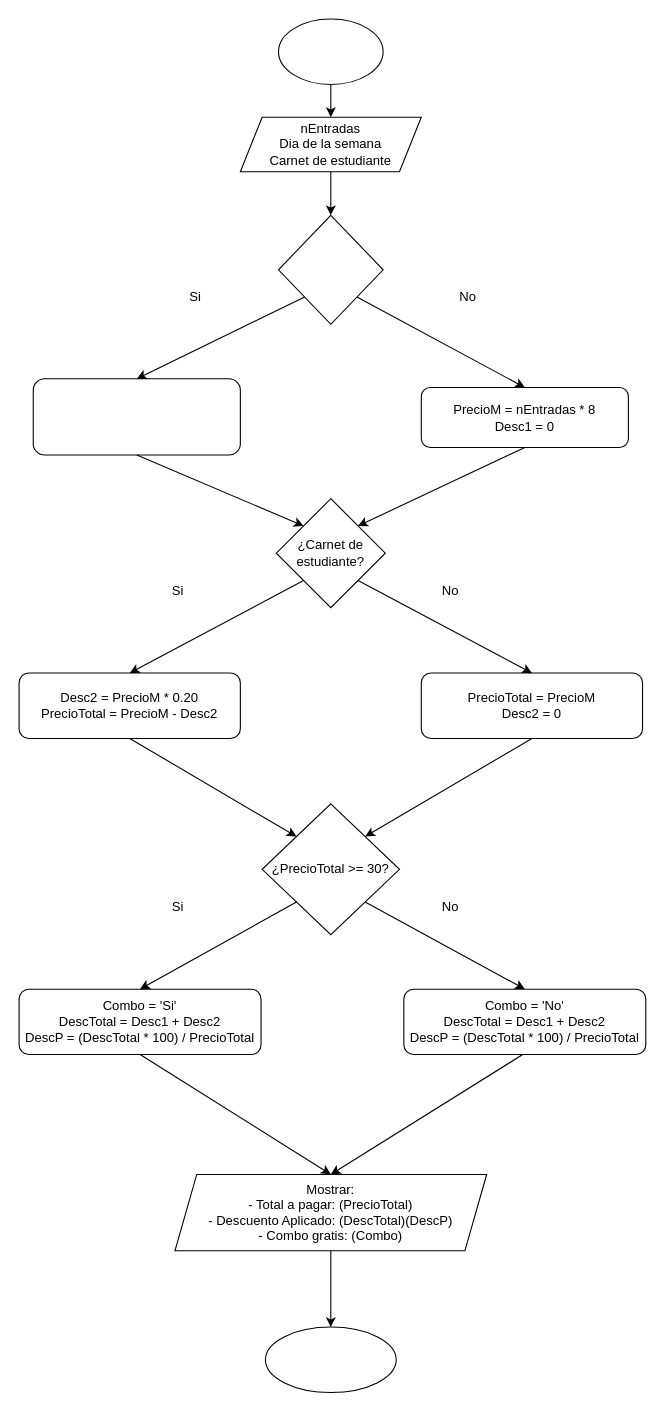
Some shapes in this 665 by 1412 pixel diagram are drawn without their labels. The shapes that lost their labels are listed below. From the top down, each one's centre as x and y in pixels, then its label:
At [330,51]: "Inicio".
At [330,269]: "¿Es miércoles?".
At [136,416]: "Precio = nEntradas * 8 Desc1 = Precio * 0,50 PrecioM = Precio - Desc1".
At [330,1359]: "Fin".
